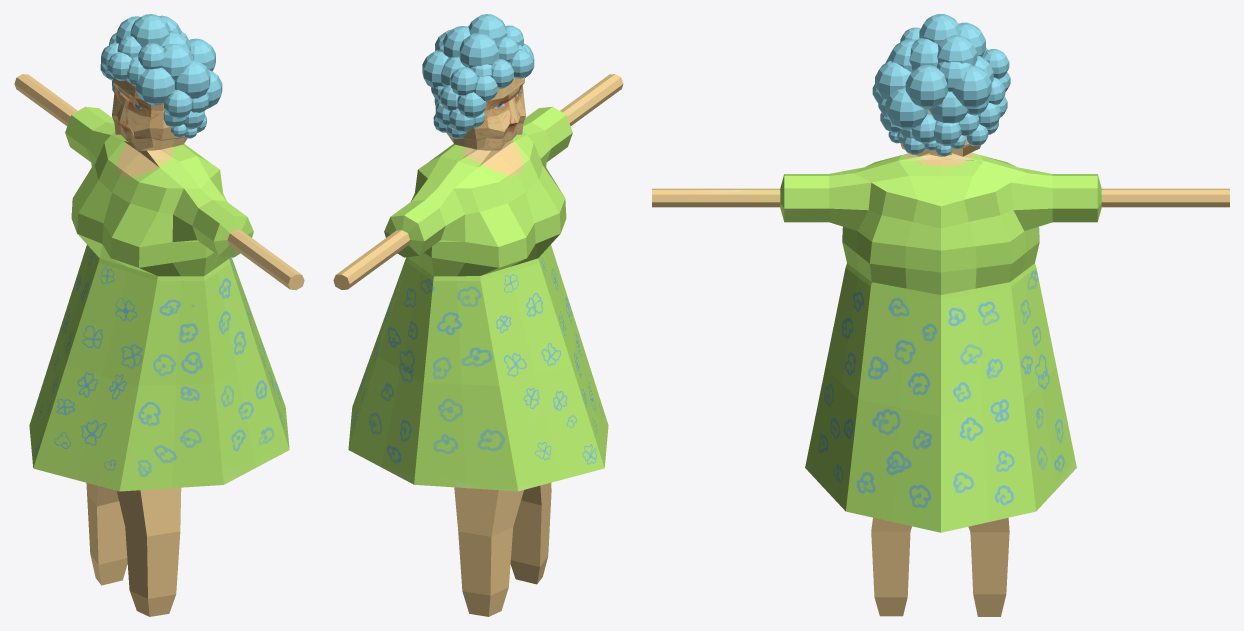
The model's file is vieja.fbx.
The picture shows the model from 3 angles, left to right: view 1: azimuth 30°, elevation 25°; view 2: azimuth 150°, elevation 25°; view 3: azimuth 270°, elevation 25°; orthographic projection. The views are drawn at different scales.
Visible parts, largest first — view 1: Cube, Sphere; view 2: Cube, Sphere; view 3: Cube, Sphere.
Part boxes in pixels (bbox=[...]): Cube: bbox=[14, 74, 304, 616]; Sphere: bbox=[100, 14, 222, 138]; Cube: bbox=[333, 74, 623, 616]; Sphere: bbox=[422, 14, 534, 138]; Cube: bbox=[652, 109, 1229, 616]; Sphere: bbox=[872, 14, 1010, 156].
Size of the model in its own units: 278 by 606 by 523.
2 materials, 1 textured.
